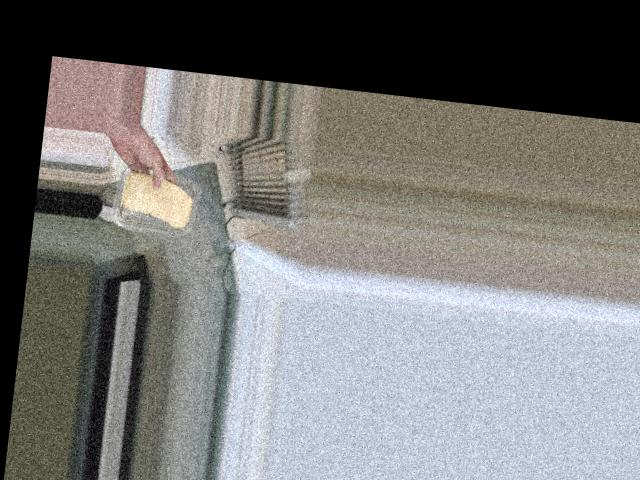cheese: (112, 163, 205, 237)
